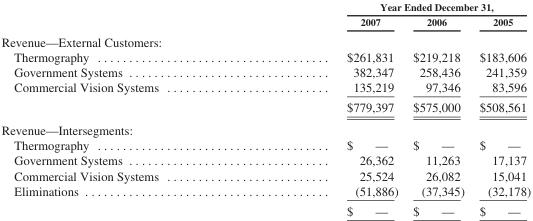table: (0, 0, 530, 217)
table column: (0, 0, 252, 217), (252, 0, 404, 217), (404, 0, 471, 217), (471, 0, 530, 217)
table column header: (0, 0, 530, 31)
table projected row header: (0, 118, 530, 137), (0, 31, 530, 48)
table row: (0, 96, 530, 118), (0, 118, 530, 137), (0, 182, 530, 200), (0, 14, 530, 31), (0, 31, 530, 48), (0, 79, 530, 96), (0, 200, 530, 217), (0, 48, 530, 64), (0, 64, 530, 79), (0, 137, 530, 152), (0, 152, 530, 167), (0, 167, 530, 182), (0, 0, 530, 14)
table spanning cell: (252, 0, 530, 14)
